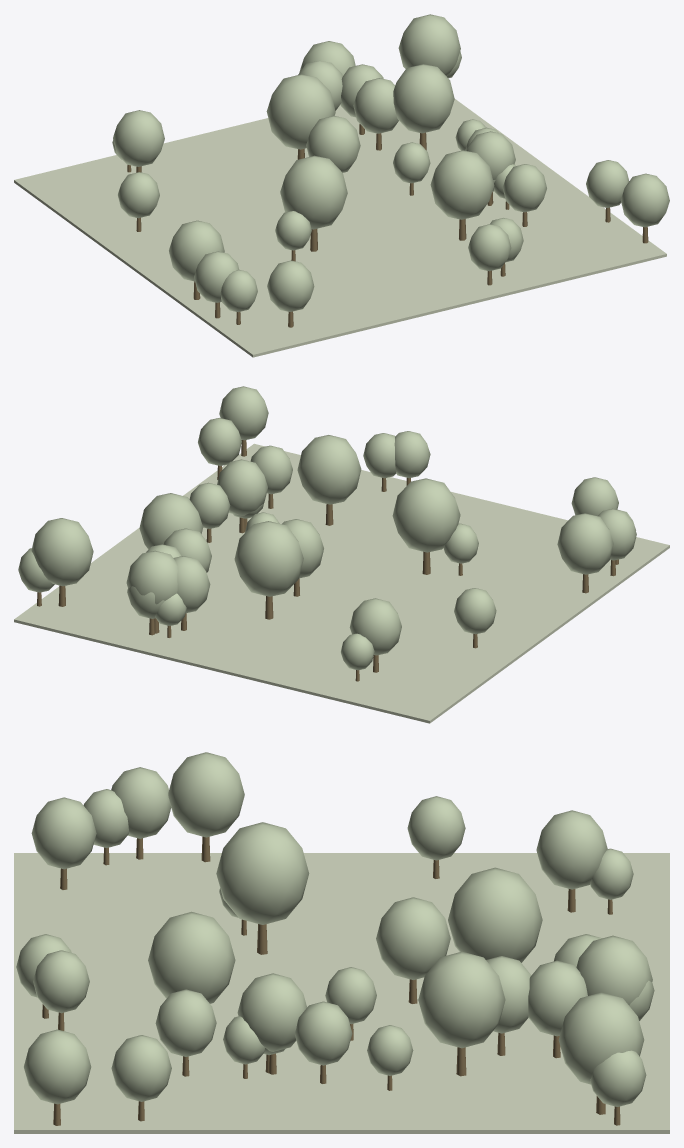
The picture shows the model from 3 angles, top to bottom: view 1: azimuth 30°, elevation 25°; view 2: azimuth 150°, elevation 25°; view 3: azimuth 270°, elevation 25°; orthographic projection. The views are drawn at different scales.
Parts seen in each view (by area): view 1: terrain, lod-near-18, lod-near-31, lod-near-25, lod-near-11, lod-near-27, lod-near-21, lod-near-17, lod-near-5, lod-near-7, lod-near-22, lod-near-16 (+13 smaller); view 2: terrain, lod-near-31, lod-near-18, lod-near-25, lod-near-27, lod-near-5, lod-near-11, lod-near-23, lod-near-21, lod-near-0, lod-near-7, lod-near-3 (+15 smaller); view 3: terrain, lod-near-18, lod-near-31, lod-near-11, lod-near-25, lod-near-27, lod-near-5, lod-near-17, lod-near-21, lod-near-7, lod-near-23, lod-near-0 (+17 smaller).
Part boxes in pixels (left/top/right/bottom): terrain: left=14, top=99, right=666, bottom=357; lod-near-18: left=280, top=155, right=347, bottom=229; lod-near-31: left=266, top=74, right=335, bottom=149; lod-near-25: left=430, top=150, right=494, bottom=219; lod-near-11: left=393, top=64, right=454, bottom=133; lod-near-27: left=398, top=14, right=460, bottom=76; lod-near-21: left=113, top=110, right=164, bottom=166; lod-near-17: left=306, top=116, right=360, bottom=172; lod-near-5: left=169, top=220, right=224, bottom=281; lod-near-7: left=620, top=173, right=669, bottom=227; lod-near-22: left=353, top=78, right=398, bottom=133; lod-near-16: left=267, top=260, right=314, bottom=311; terrain: left=14, top=443, right=669, bottom=723; lod-near-31: left=234, top=521, right=303, bottom=596; lod-near-18: left=392, top=478, right=460, bottom=552; lod-near-25: left=297, top=435, right=361, bottom=504; lod-near-27: left=31, top=518, right=93, bottom=586; lod-near-5: left=557, top=513, right=613, bottom=574; lod-near-11: left=139, top=493, right=203, bottom=549; lod-near-23: left=217, top=459, right=267, bottom=515; lod-near-21: left=349, top=598, right=401, bottom=655; lod-near-0: left=126, top=550, right=177, bottom=604; lod-near-7: left=219, top=386, right=268, bottom=440; lod-near-3: left=198, top=418, right=241, bottom=465; terrain: left=14, top=853, right=669, bottom=1133; lod-near-18: left=216, top=822, right=309, bottom=924; lod-near-31: left=448, top=867, right=542, bottom=962; lod-near-11: left=418, top=951, right=505, bottom=1048; lod-near-25: left=148, top=911, right=235, bottom=1003; lod-near-27: left=558, top=992, right=644, bottom=1084; lod-near-5: left=168, top=752, right=244, bottom=837; lod-near-17: left=376, top=897, right=450, bottom=979; lod-near-21: left=536, top=810, right=607, bottom=889; lod-near-7: left=24, top=1029, right=91, bottom=1104; lod-near-23: left=237, top=973, right=306, bottom=1051; lod-near-0: left=576, top=935, right=652, bottom=1005.
Bounding box in the file's own units: 34.01 × 7.3 × 32.
